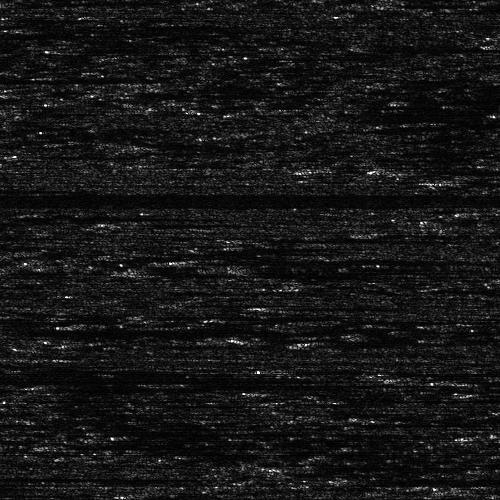object: (266, 471, 453, 488), (293, 162, 480, 179), (373, 481, 500, 496), (199, 231, 292, 244), (253, 462, 346, 471), (432, 376, 500, 387), (0, 320, 37, 337), (134, 258, 217, 265), (0, 470, 60, 479), (345, 41, 386, 52), (8, 150, 71, 157), (252, 365, 305, 372), (230, 302, 283, 309), (317, 339, 370, 346), (414, 178, 467, 183), (398, 97, 429, 102)
shadow: (0, 366, 333, 391), (0, 320, 394, 337), (0, 193, 375, 204), (360, 471, 500, 488), (176, 258, 471, 265), (246, 231, 396, 244), (387, 162, 500, 179), (7, 470, 217, 479), (366, 41, 500, 52), (300, 462, 450, 471), (0, 232, 68, 251), (344, 339, 499, 346), (257, 302, 406, 309), (451, 481, 500, 496), (0, 74, 118, 79), (279, 365, 354, 372), (40, 150, 112, 157), (414, 97, 500, 102), (440, 178, 500, 183)
